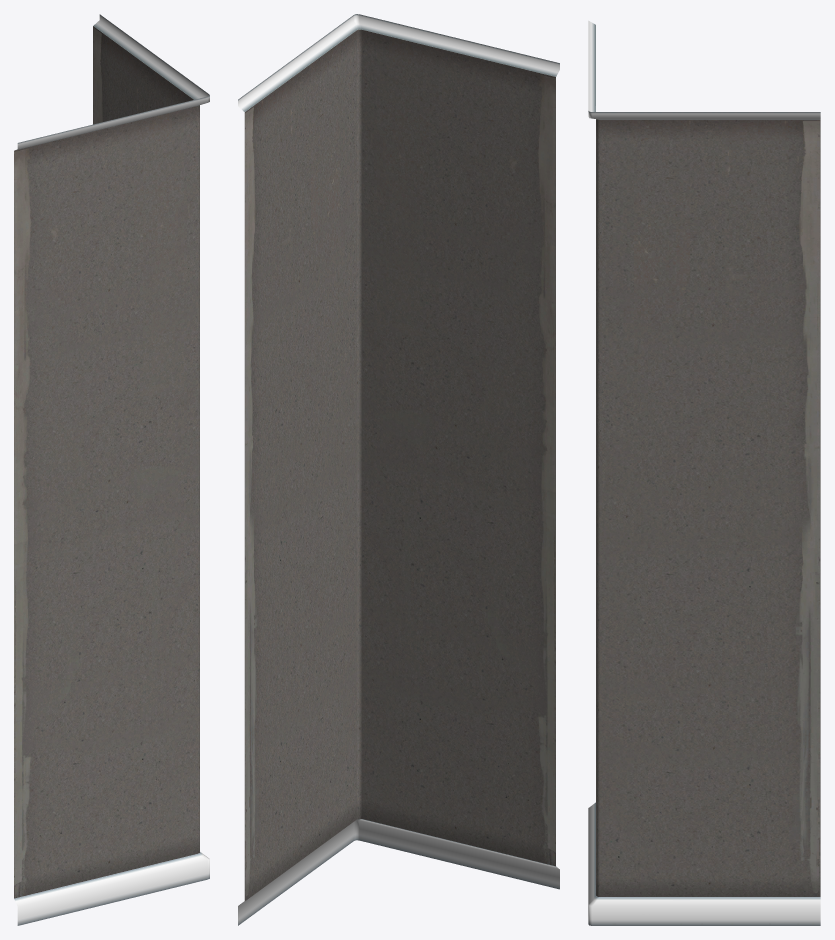
Rendered from waitingroom_drywall_convex_short.dae.
3 views of the same model, side by side, from view 1: azimuth 30°, elevation 25°; view 2: azimuth 150°, elevation 25°; view 3: azimuth 270°, elevation 25° (orthographic). The views are drawn at different scales.
Parts seen in each view (by area): view 1: polySurface43, polySurface42; view 2: polySurface43, polySurface42; view 3: polySurface43, polySurface42.
Boxes of the visible parts, left/top/right/bottom form: polySurface43: left=14, top=26, right=199, bottom=898; polySurface42: left=14, top=14, right=209, bottom=925; polySurface43: left=244, top=29, right=555, bottom=901; polySurface42: left=238, top=14, right=559, bottom=925; polySurface43: left=596, top=119, right=820, bottom=896; polySurface42: left=588, top=20, right=820, bottom=925.
Size of the model in its own units: 1.03 by 4 by 1.03.
2 materials, 2 textured.
